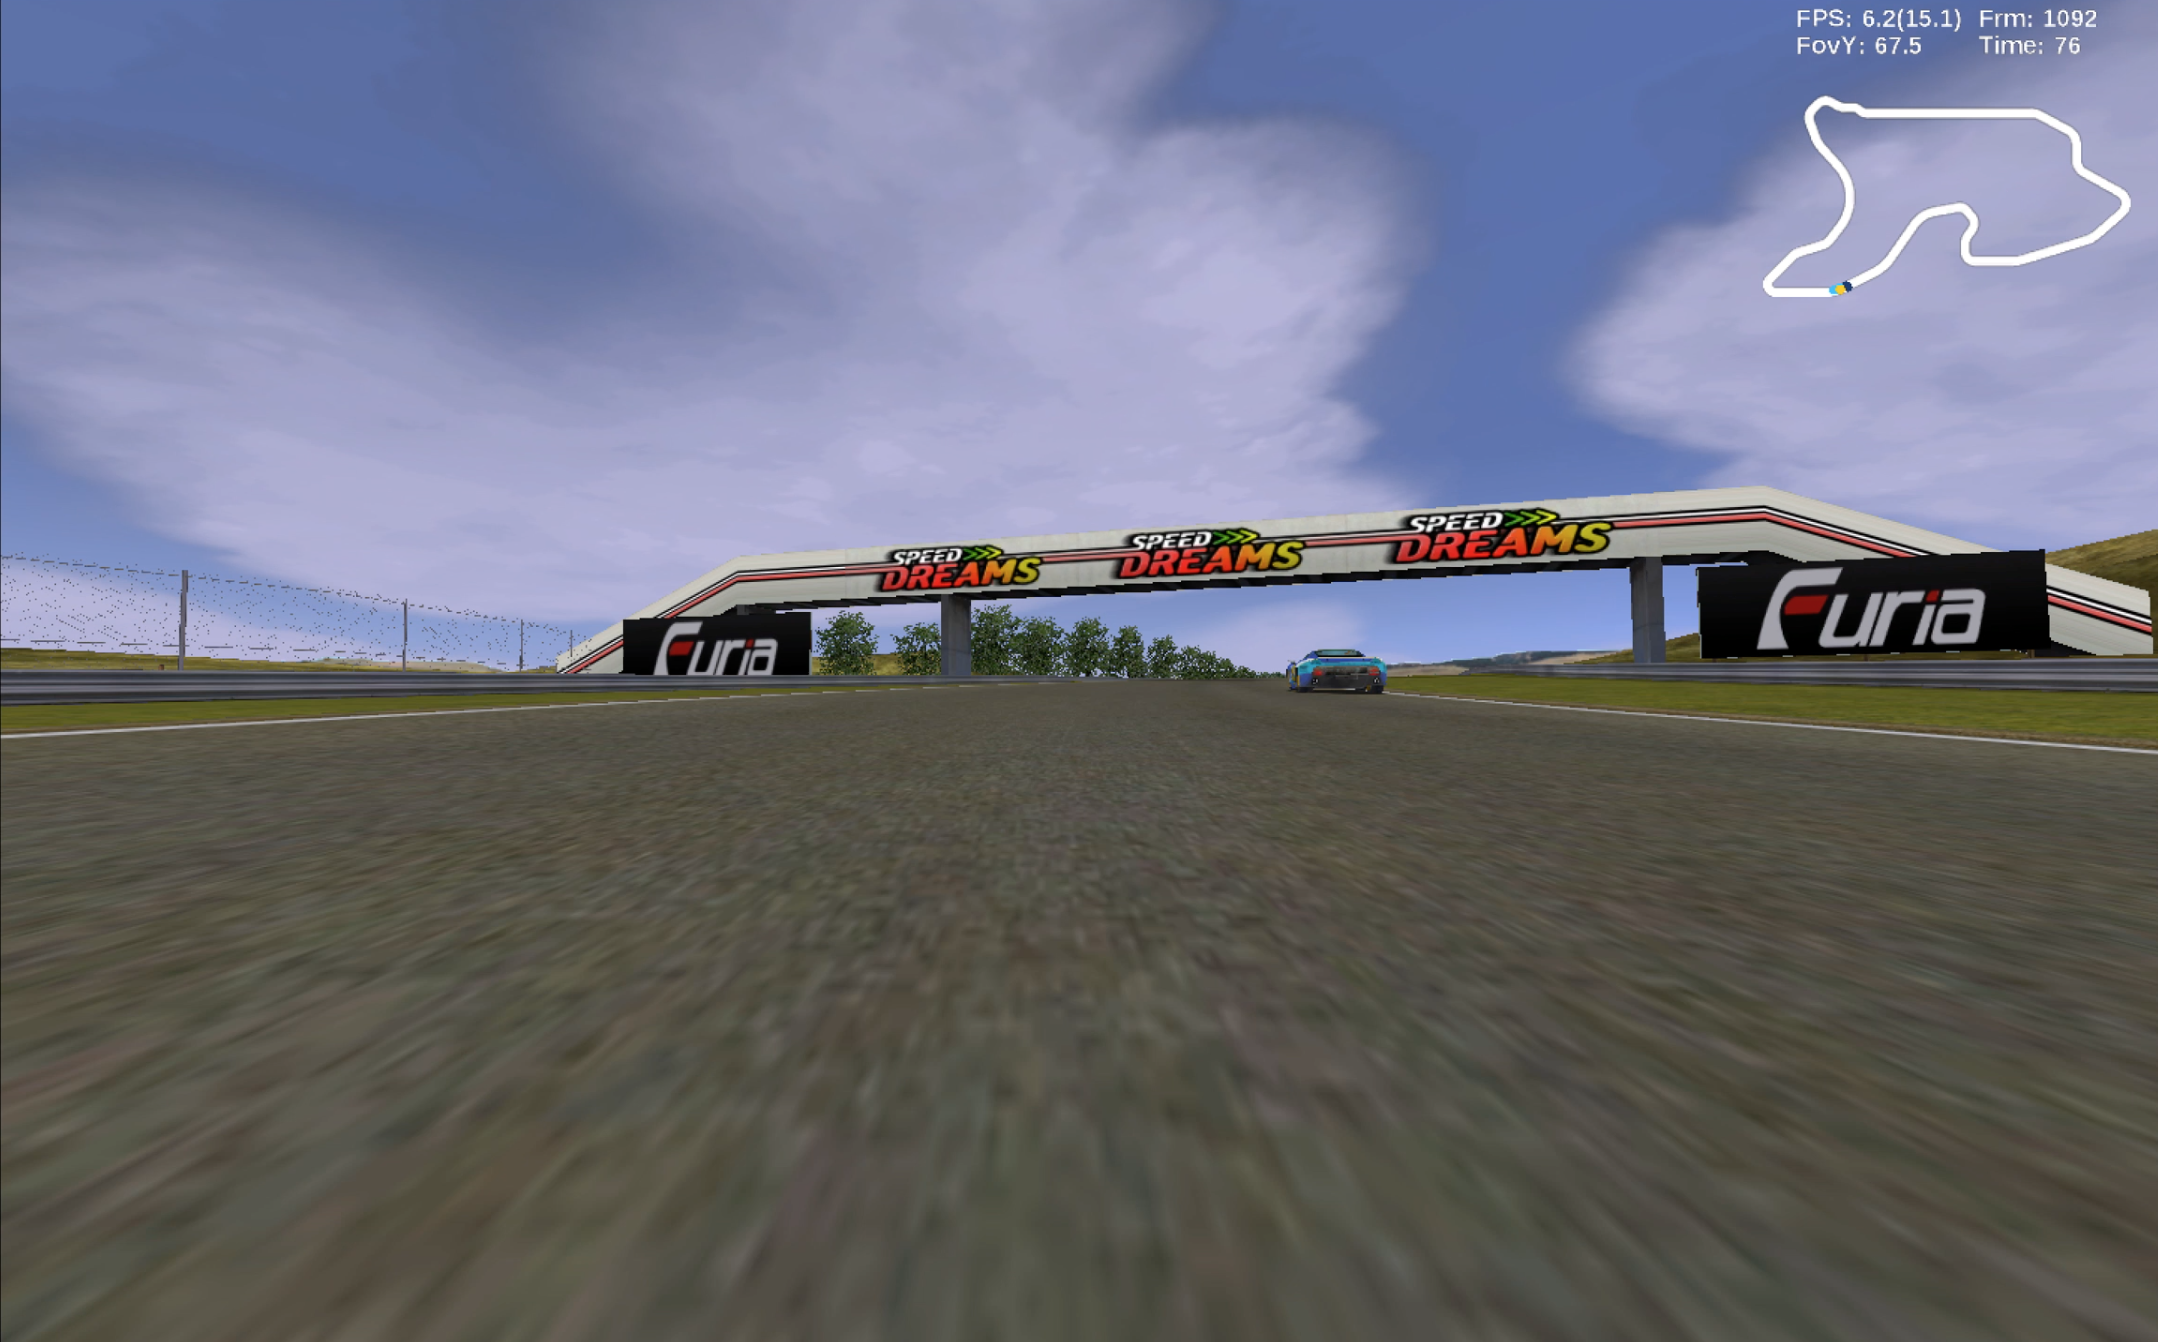Lynx220: (1288, 646, 1390, 697)
